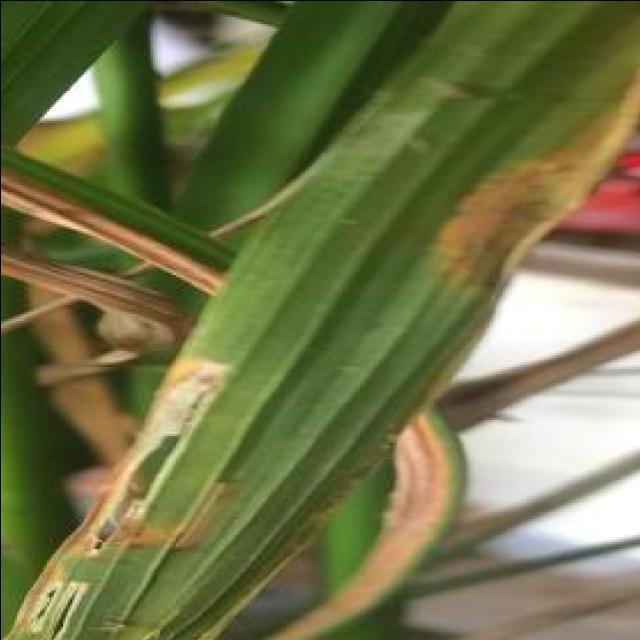Bacterial_Leaf_Blight: (283, 0, 624, 405)
